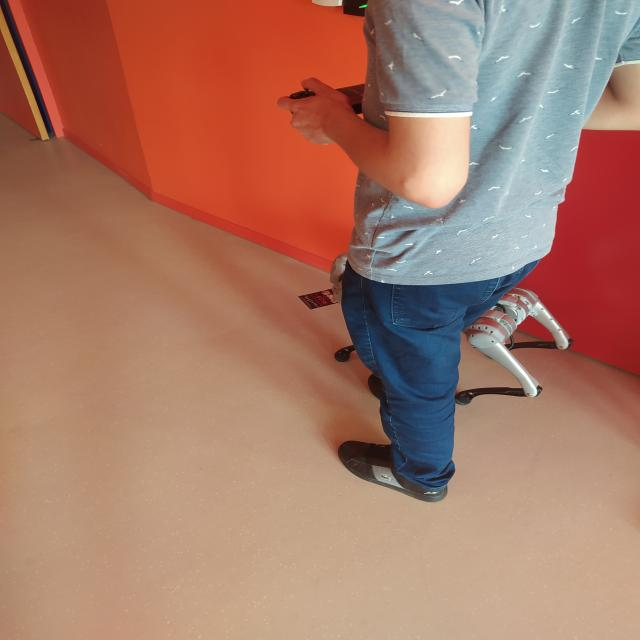unitree-go1-robot: (462, 281, 582, 429)
